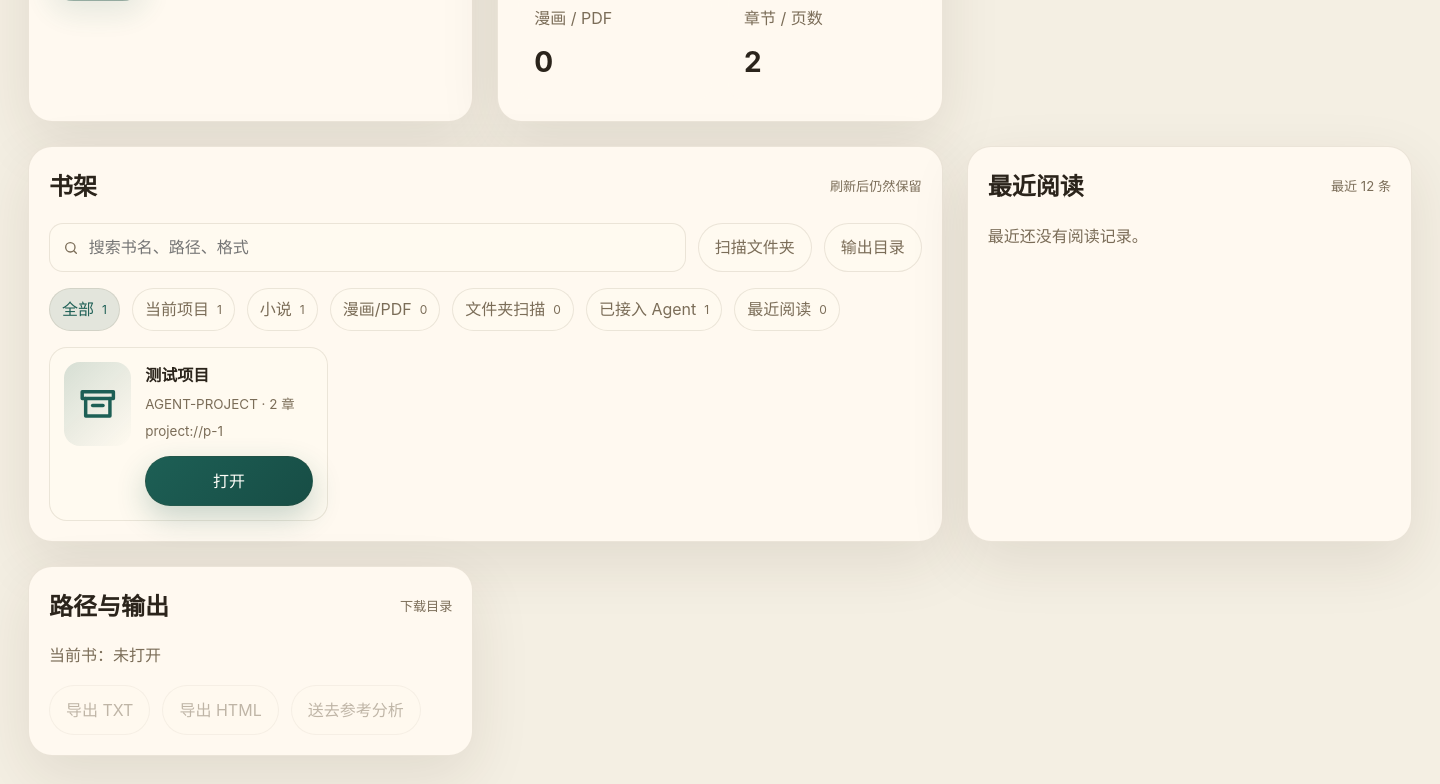
it: ReaderWorkspace › opens the current Agent project as a readable book
The image size is (1440, 784).
(page scrolled)
Expected: the text "测试项目" is shown, [145,365,209,385]
Click the button "打开" at (229, 481), box [145,456,313,506]
(page scrolled)
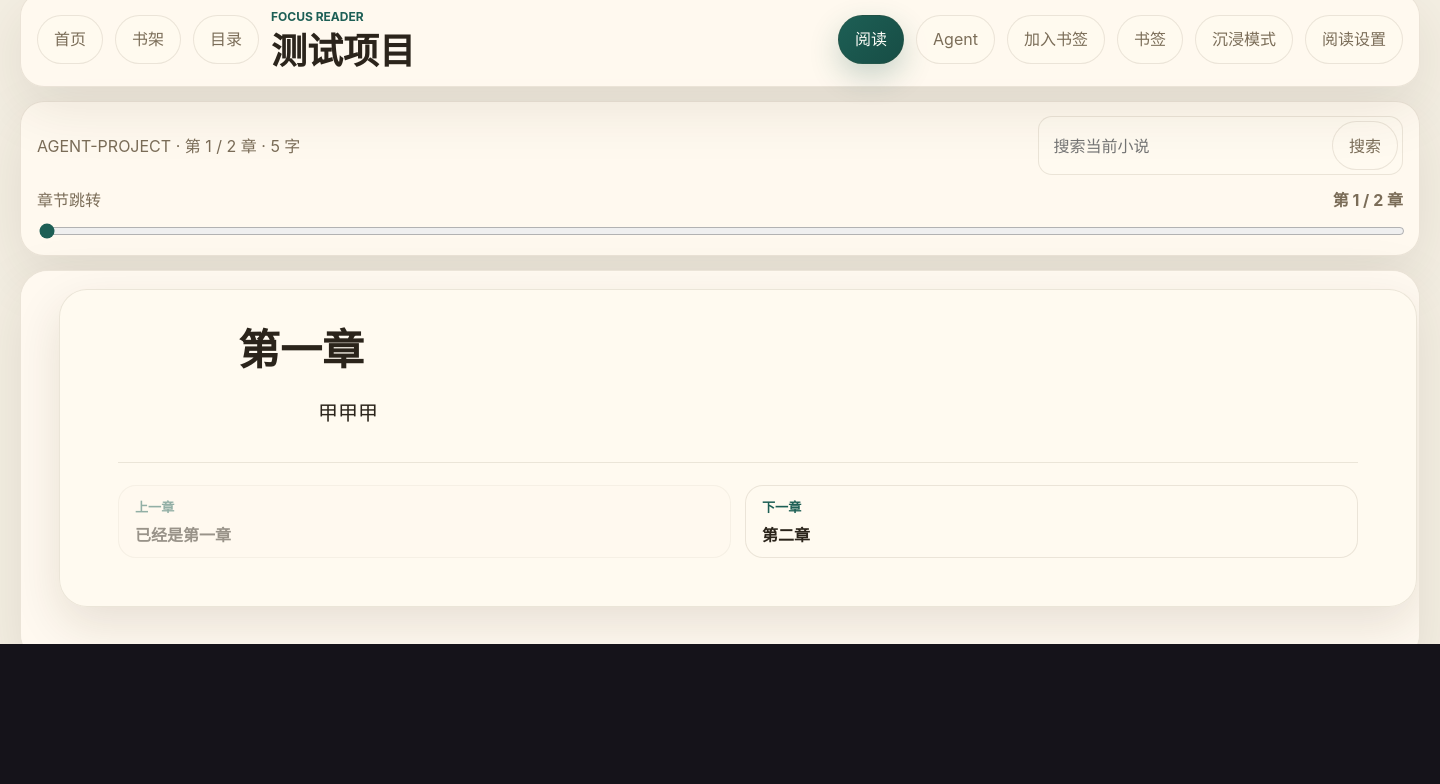
Result: the heading "测试项目" is shown at [271,31,415,72]
Result: the element named "全书统计" shows "2 章" at [37,136,300,156]
Result: the heading "第一章" is shown at [238,324,364,375]
